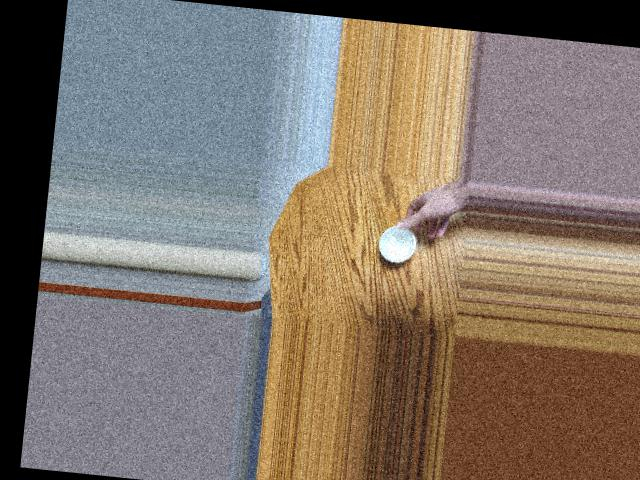cotage: (372, 217, 422, 267)
